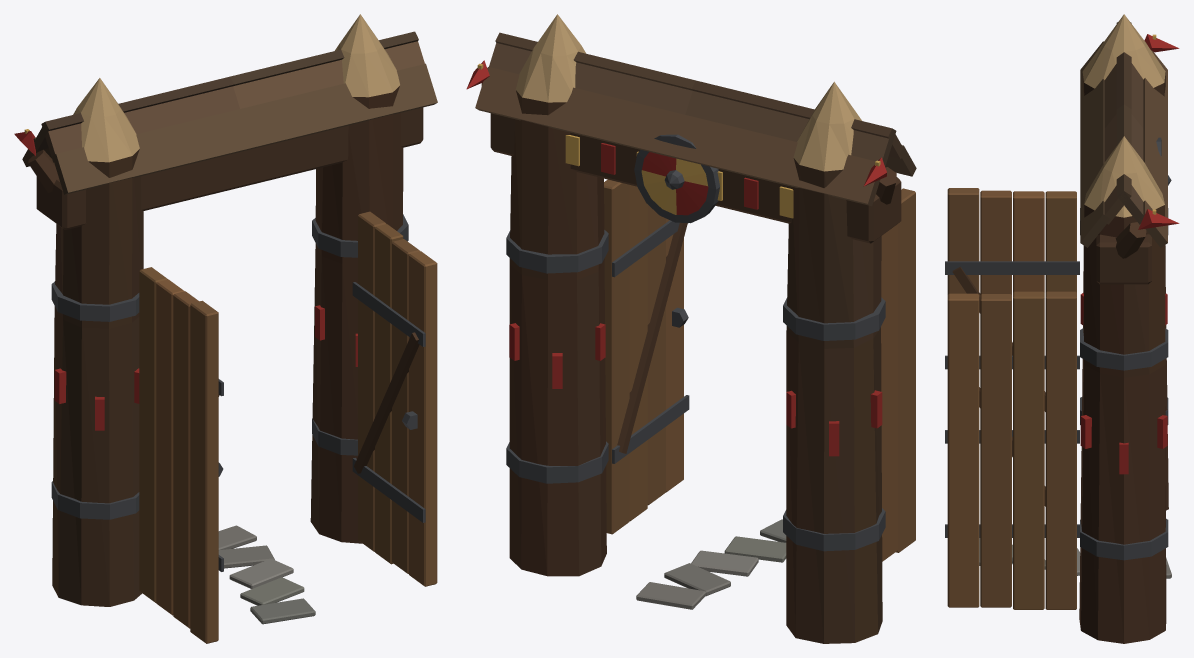
The model's file is PalisadeGate.glb.
The picture shows the model from 3 angles, left to right: view 1: azimuth 30°, elevation 25°; view 2: azimuth 150°, elevation 25°; view 3: azimuth 270°, elevation 25°; orthographic projection. The views are drawn at different scales.
Parts seen in each view (by area): view 1: Mat_Wood_473323, Mat_Wood_725133, Mat_Wood_795534, Mat_Metal_424448, Mat_Thatch_b69765, Mat_Stone_797770, Mat_Stone_71706a, Mat_Cloth_962824; view 2: Mat_Wood_473323, Mat_Wood_725133, Mat_Metal_424448, Mat_Wood_795534, Mat_Thatch_b69765, Mat_Cloth_962824, Mat_Stone_797770, Mat_Thatch_cea452, Mat_Stone_71706a; view 3: Mat_Wood_473323, Mat_Wood_725133, Mat_Wood_795534, Mat_Metal_424448, Mat_Thatch_b69765, Mat_Cloth_962824.
Part boxes in pixels (x1,y1,x2,y2): Mat_Wood_473323: [22, 31, 436, 606]; Mat_Wood_725133: [173, 41, 437, 643]; Mat_Wood_795534: [139, 224, 437, 615]; Mat_Metal_424448: [51, 214, 425, 571]; Mat_Thatch_b69765: [73, 14, 399, 162]; Mat_Stone_797770: [218, 525, 304, 605]; Mat_Stone_71706a: [218, 537, 315, 624]; Mat_Cloth_962824: [14, 131, 357, 430]; Mat_Wood_473323: [476, 32, 916, 643]; Mat_Wood_725133: [475, 67, 915, 561]; Mat_Metal_424448: [506, 134, 885, 551]; Mat_Wood_795534: [629, 185, 683, 521]; Mat_Thatch_b69765: [515, 14, 861, 218]; Mat_Cloth_962824: [466, 60, 886, 456]; Mat_Stone_797770: [636, 536, 786, 609]; Mat_Thatch_cea452: [477, 63, 880, 214]; Mat_Stone_71706a: [636, 519, 786, 609]; Mat_Wood_473323: [952, 22, 1168, 643]; Mat_Wood_725133: [947, 41, 1167, 609]; Mat_Wood_795534: [947, 191, 1076, 609]; Mat_Metal_424448: [945, 137, 1171, 560]; Mat_Thatch_b69765: [1082, 14, 1165, 217]; Mat_Cloth_962824: [1080, 34, 1179, 474].
Size of the model in its own units: 9.29 by 11.6 by 5.05.
Materials: 1 (1 with a texture image).
